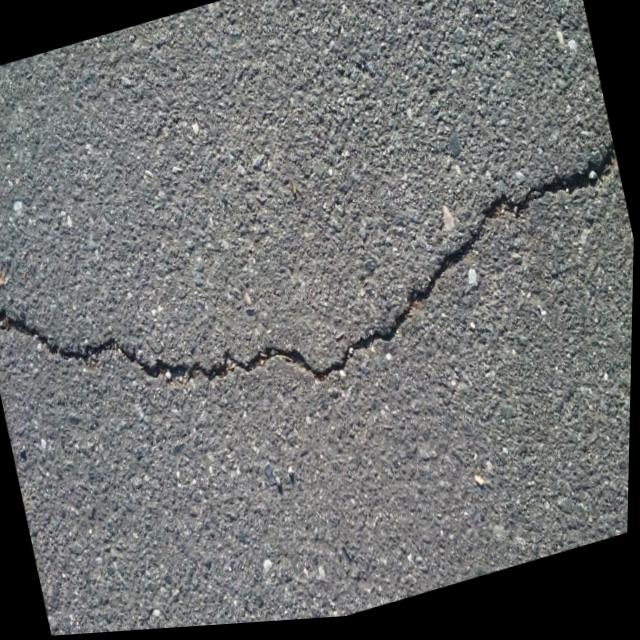Crack: (0, 74, 638, 473)
